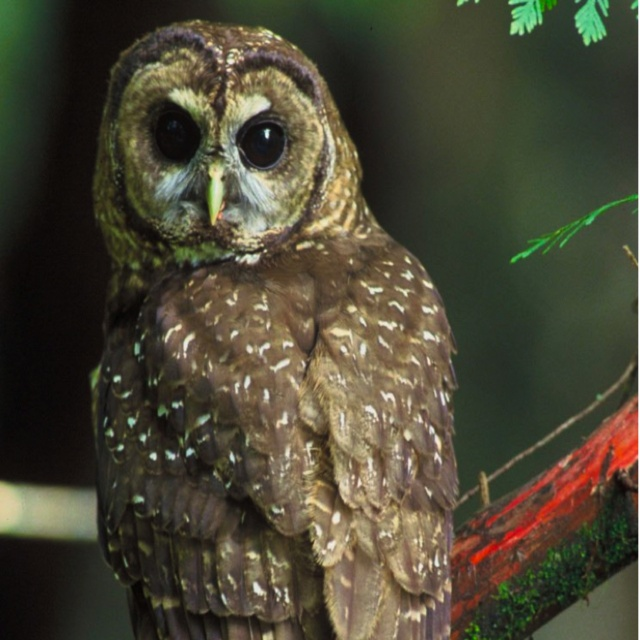Owl: (89, 17, 464, 639)
